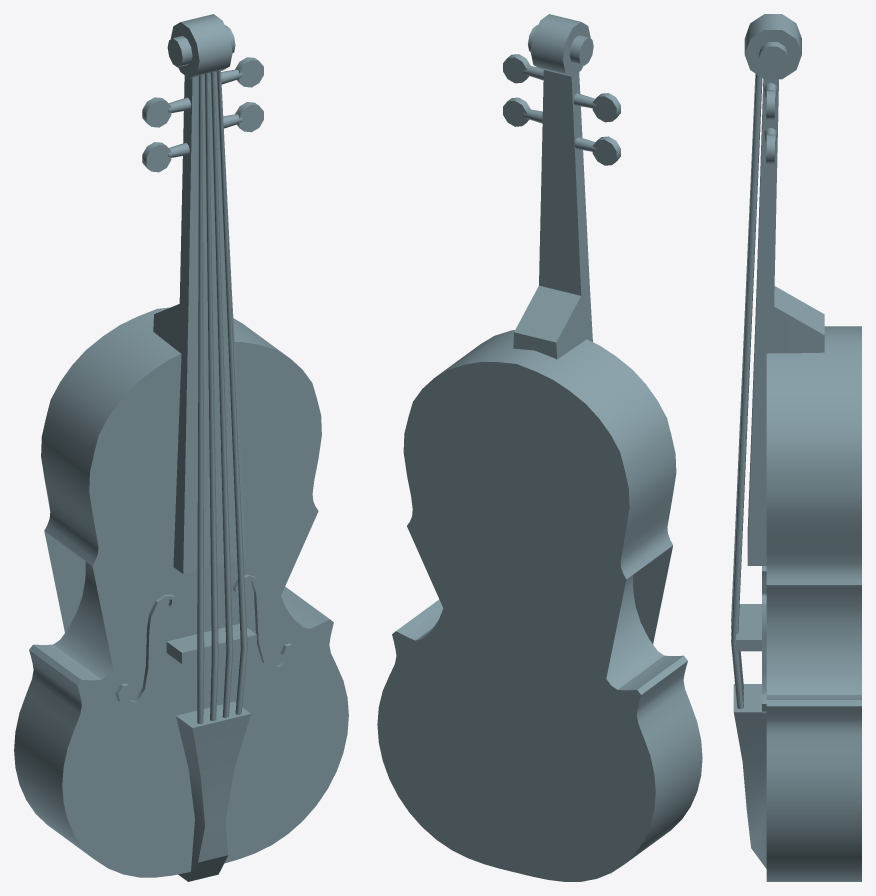
The model's file is Violin.fbx.
3 views of the same model, side by side, from view 1: azimuth 30°, elevation 25°; view 2: azimuth 150°, elevation 25°; view 3: azimuth 270°, elevation 25° (orthographic). The views are drawn at different scales.
Visible parts, largest first — view 1: Violin; view 2: Violin; view 3: Violin.
Part boxes in pixels (x1,y1,x2,y2): Violin: [14, 14, 348, 881]; Violin: [377, 14, 702, 881]; Violin: [731, 14, 861, 881].
Bounding box in the file's own units: 22.04 × 62.89 × 8.83.
